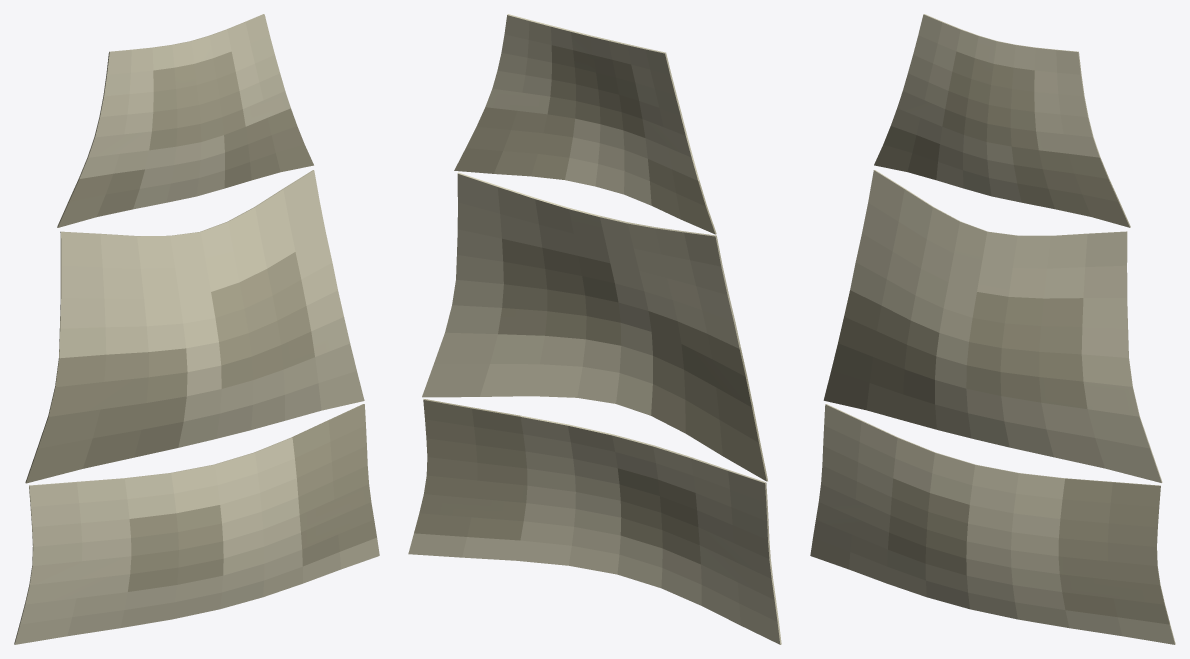
Rendered from LargeShip_3_Sails2.fbx.
3 renders of one model, left to right at view 1: azimuth 30°, elevation 25°; view 2: azimuth 150°, elevation 25°; view 3: azimuth 330°, elevation 25°, orthographic. The views are drawn at different scales.
Parts seen in each view (by area): view 1: LargeShip_3_Sails2; view 2: LargeShip_3_Sails2; view 3: LargeShip_3_Sails2.
Part boxes in pixels (x1=…): LargeShip_3_Sails2: x1=14, y1=14, x2=379, y2=644; LargeShip_3_Sails2: x1=408, y1=14, x2=781, y2=644; LargeShip_3_Sails2: x1=810, y1=14, x2=1175, y2=644.
Bounding box in the file's own units: 1508 × 2213 × 269.
